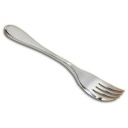fork: (3, 19, 128, 120)
